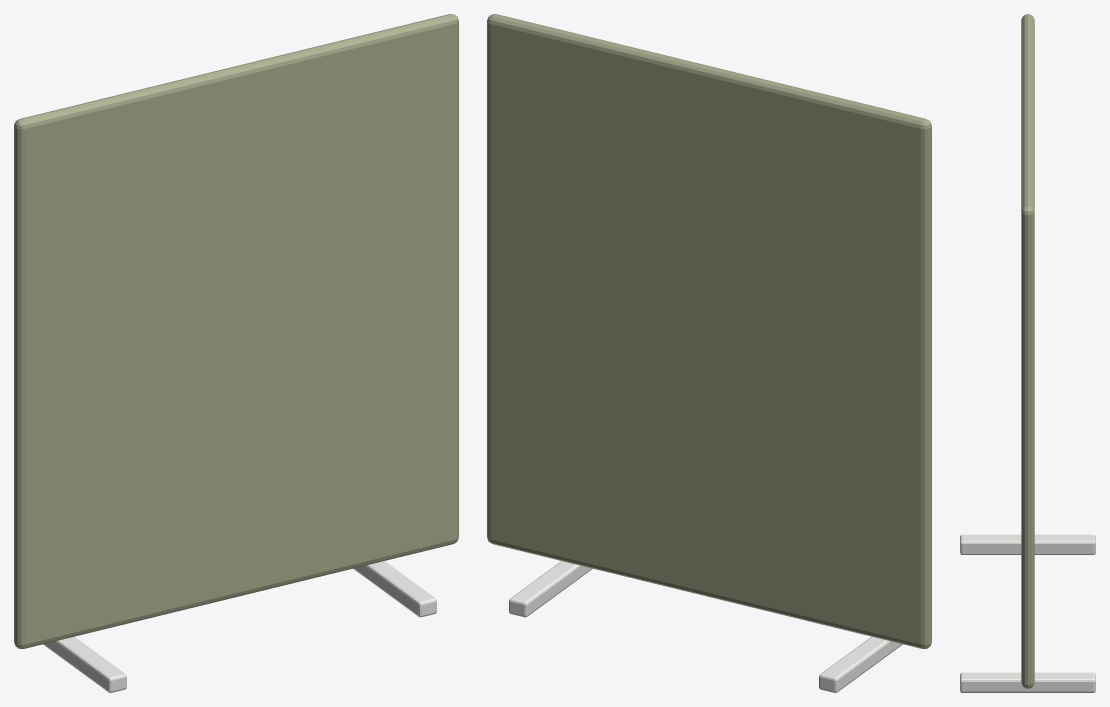
File: partitions___dividers_asset_catalog_83.glb
3 renders of one model, left to right at view 1: azimuth 30°, elevation 25°; view 2: azimuth 150°, elevation 25°; view 3: azimuth 270°, elevation 25°, orthographic. The views are drawn at different scales.
Visible parts, largest first — view 1: Cube; view 2: Cube; view 3: Cube.
Part boxes in pixels (x1,y1,x2,y2): Cube: (14,14,458,692); Cube: (487,14,931,692); Cube: (960,14,1095,692).
Bounding box in the file's own units: 1.2 × 1.45 × 0.35.
